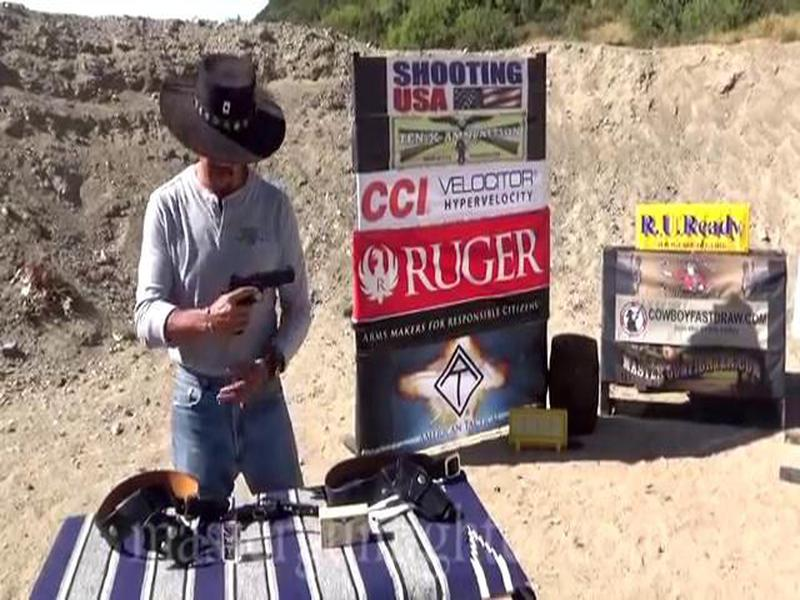Pistola: (217, 261, 302, 339)
